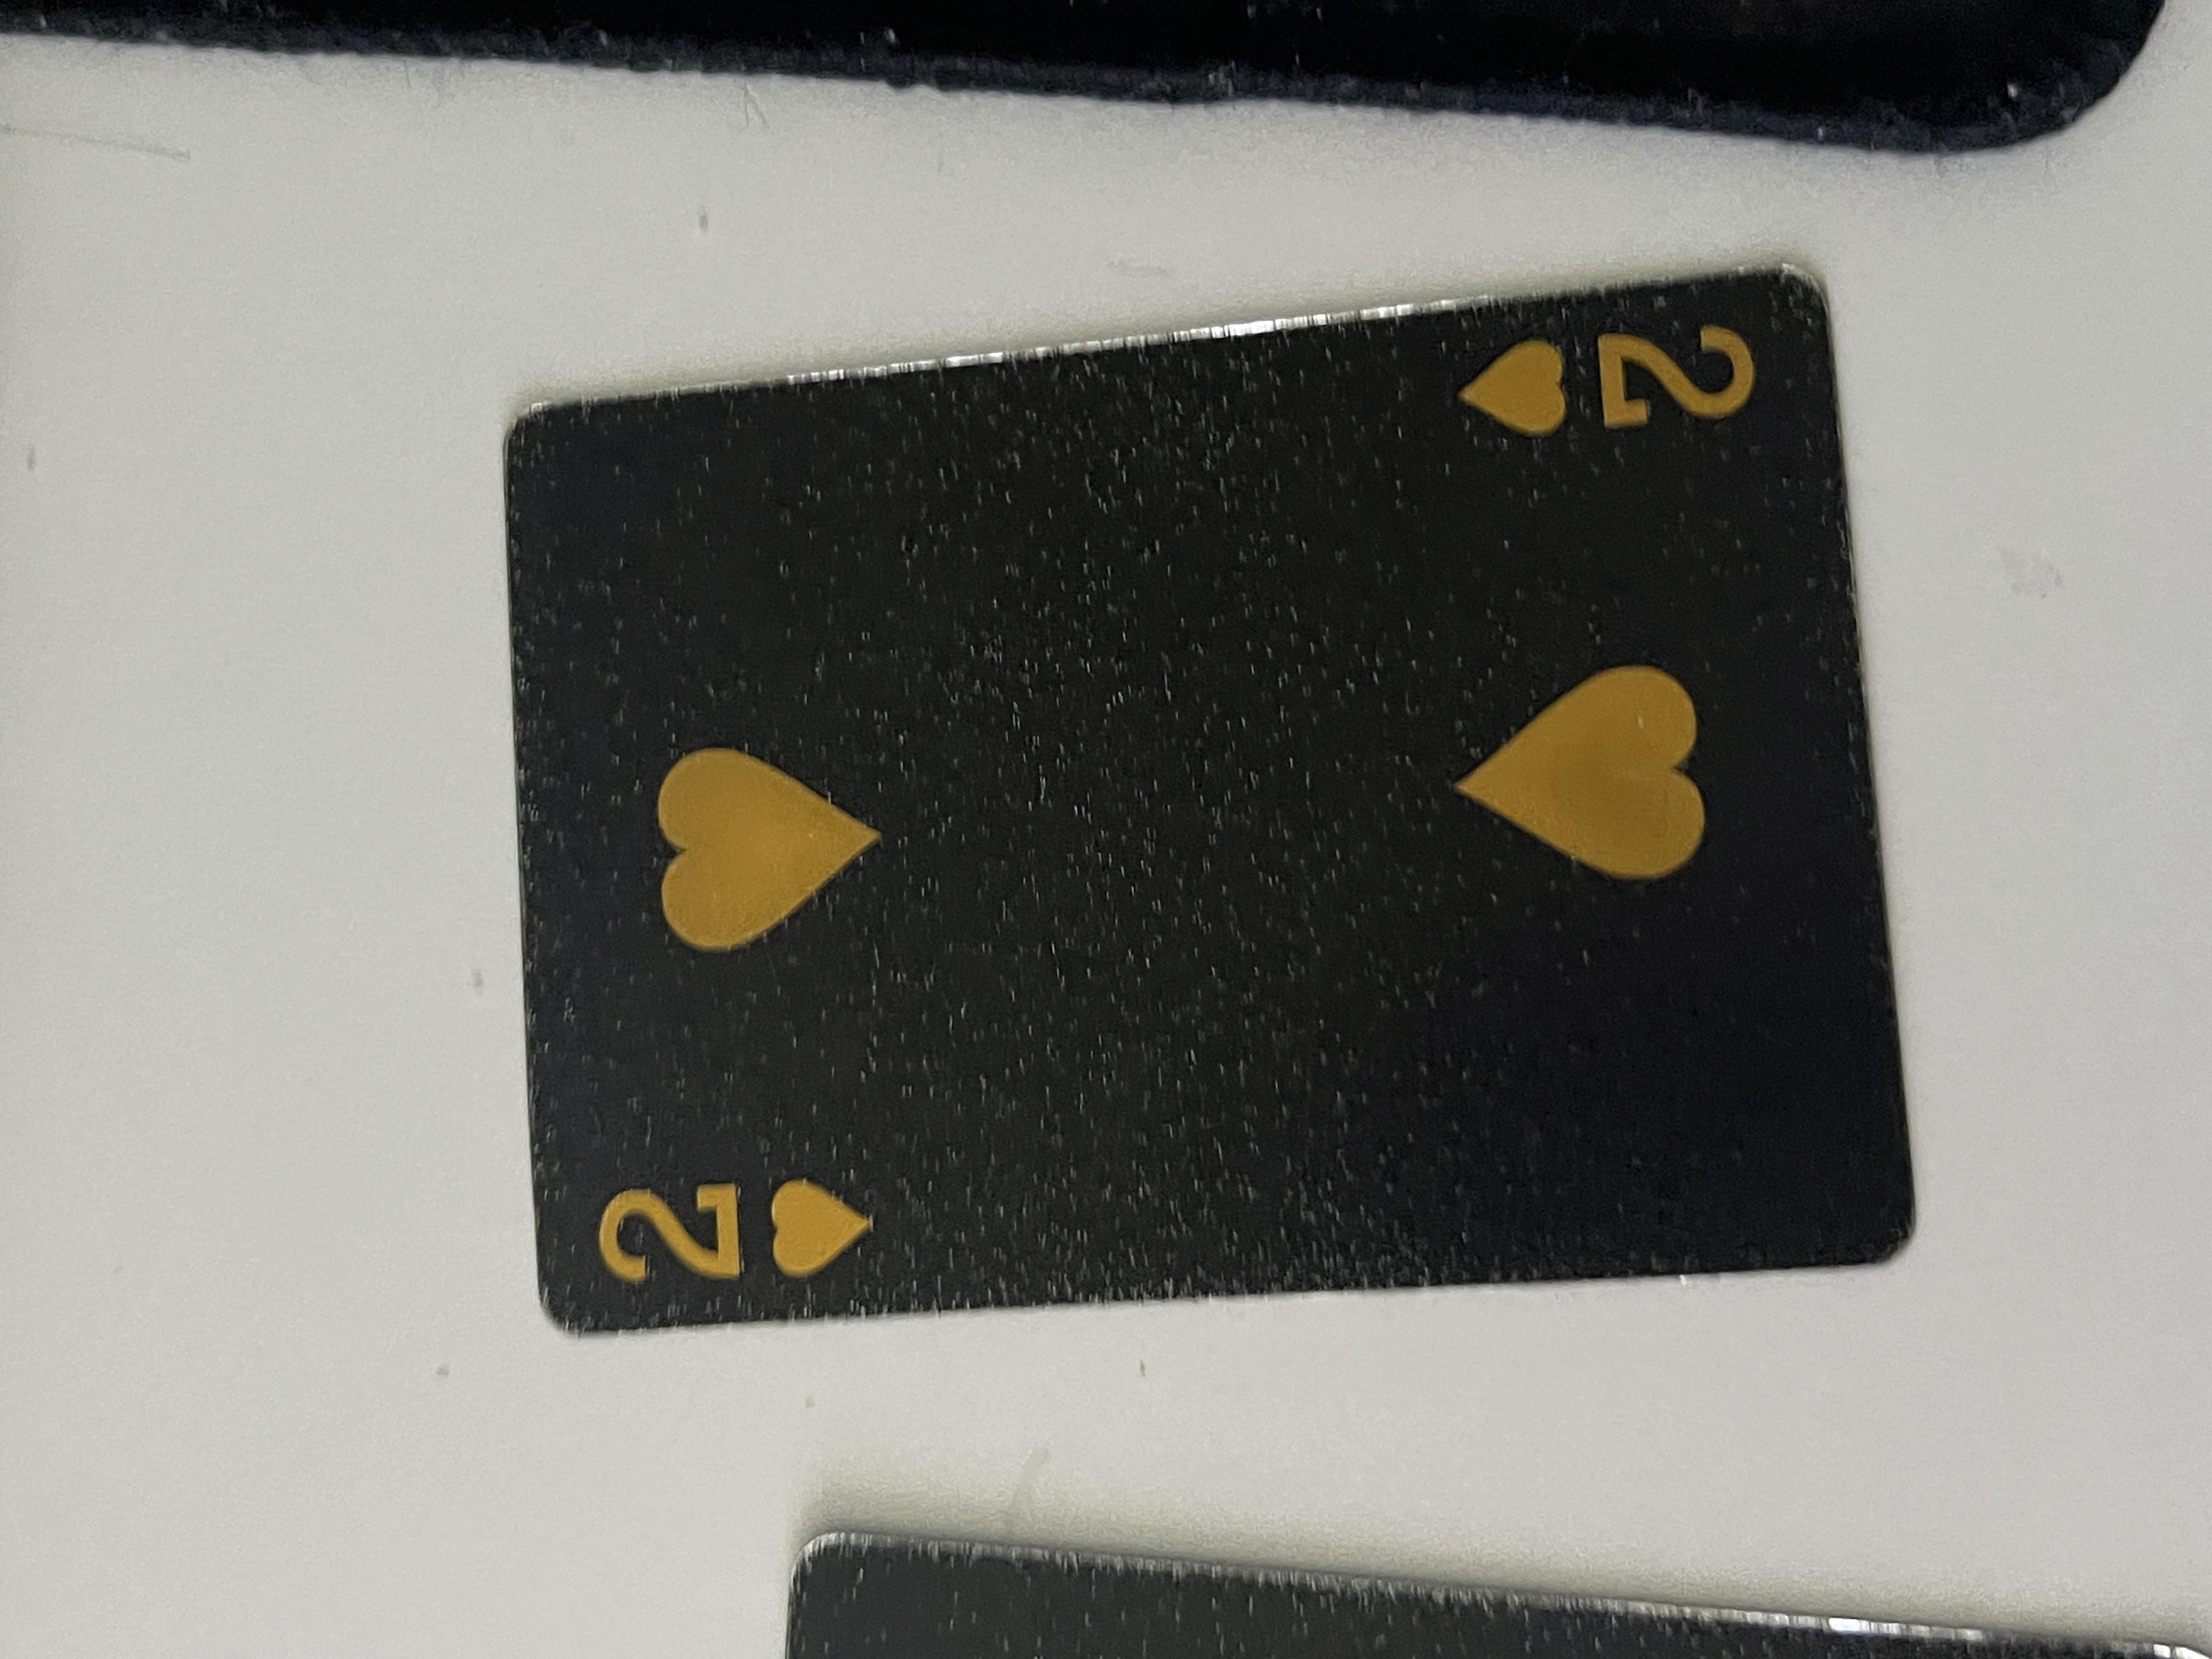2H: (1602, 1080, 1829, 1352), (442, 436, 688, 664)
